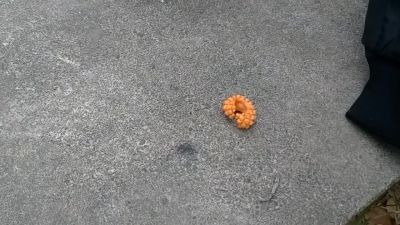eggs: (222, 93, 258, 129)
